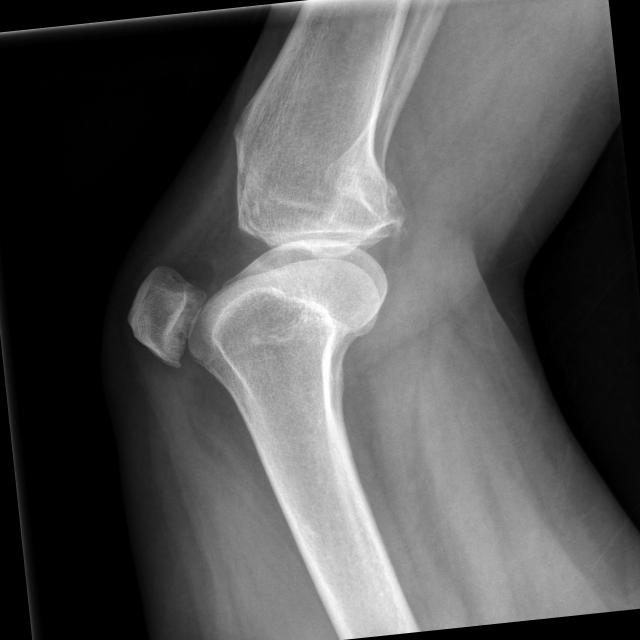Knee: (105, 140, 422, 398)
